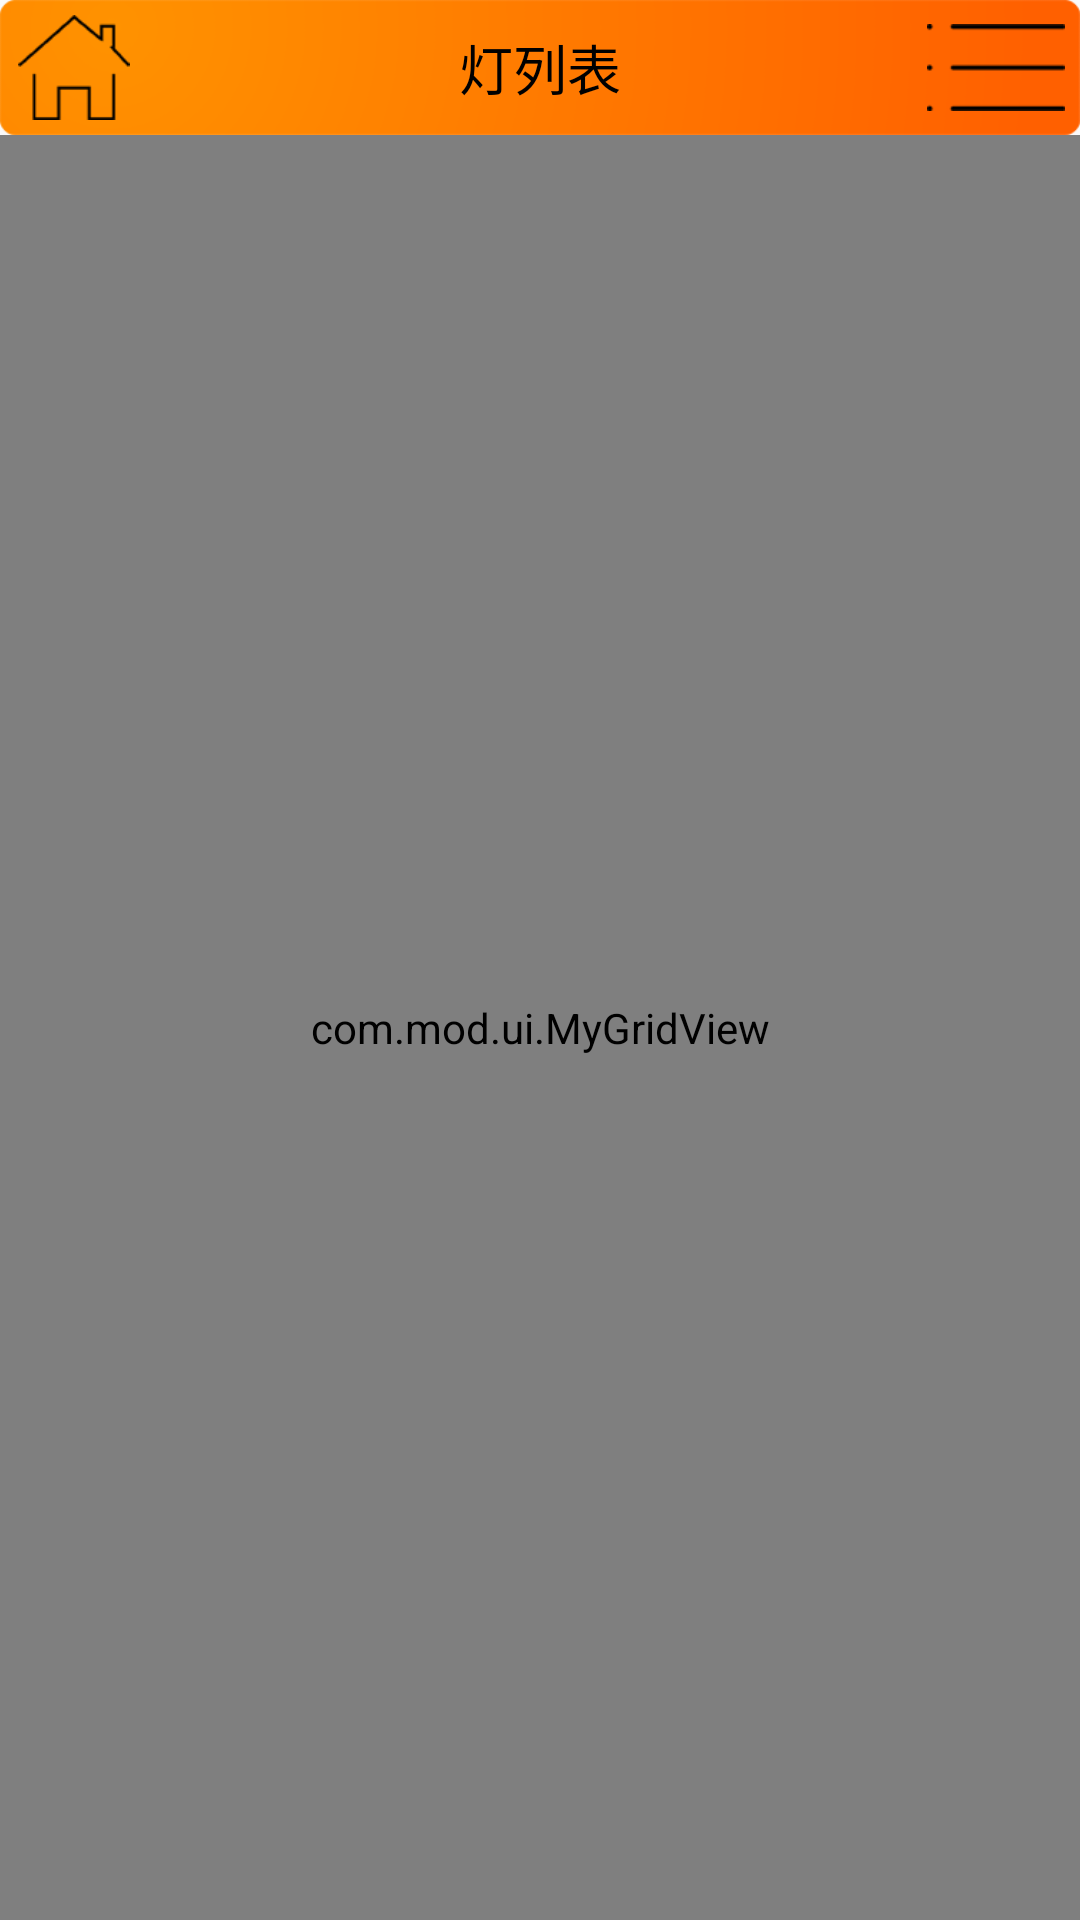

Where to tap for icons on this 1080×1920 app screen, as (x,y):
bulb list home: (73,67)
bulb list menu: (996,67)
